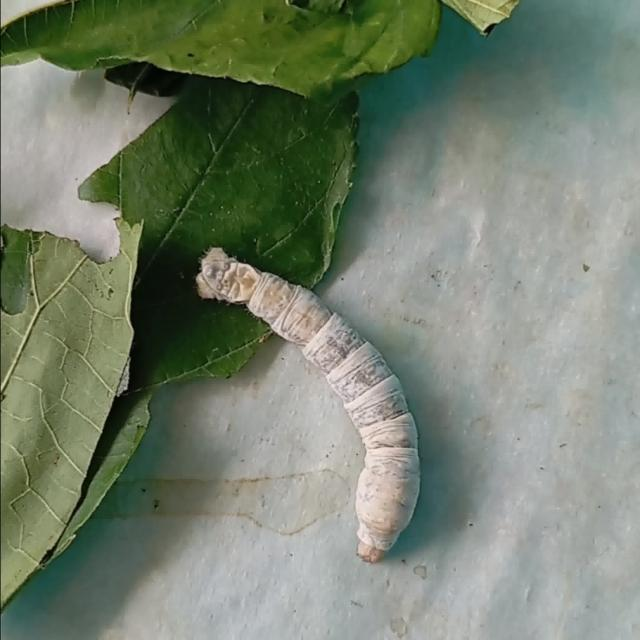Grasserie: (166, 228, 470, 586)
